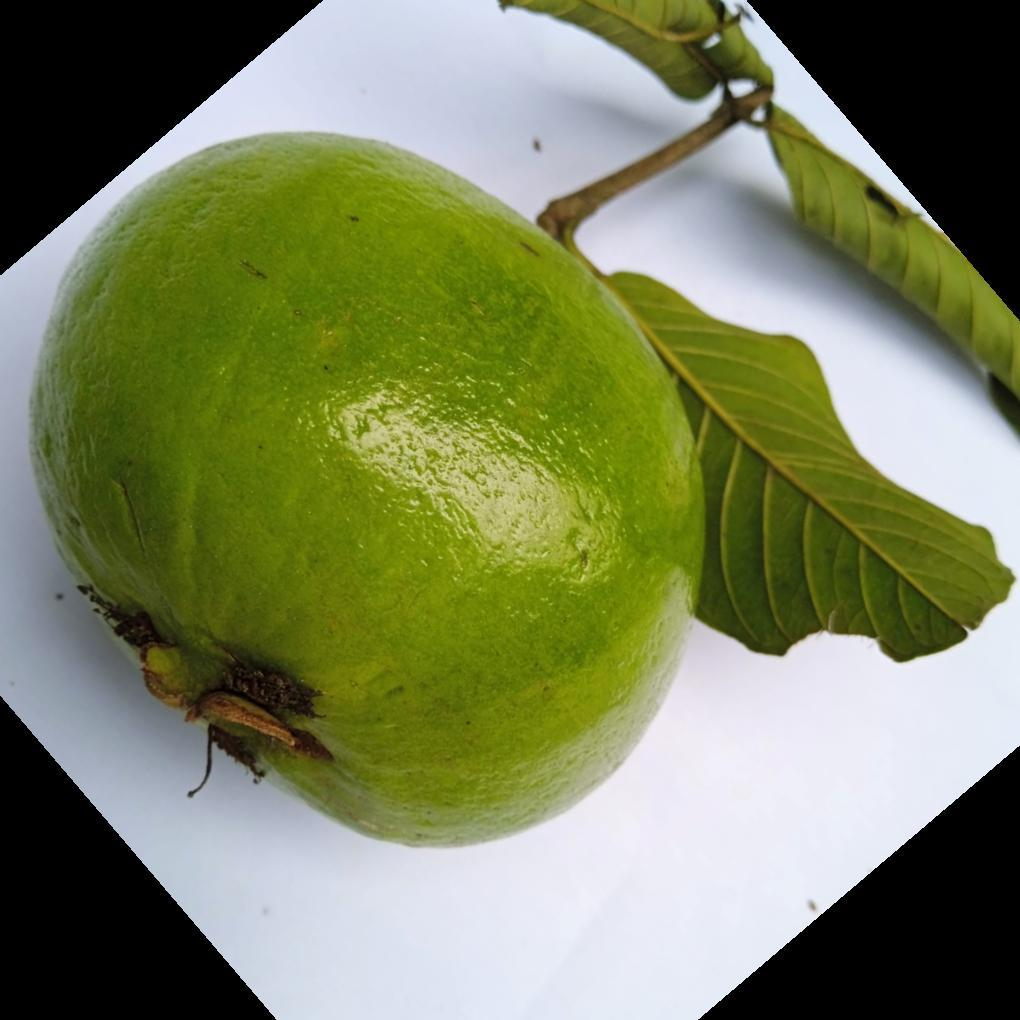FreshGuava: (27, 130, 747, 854)
